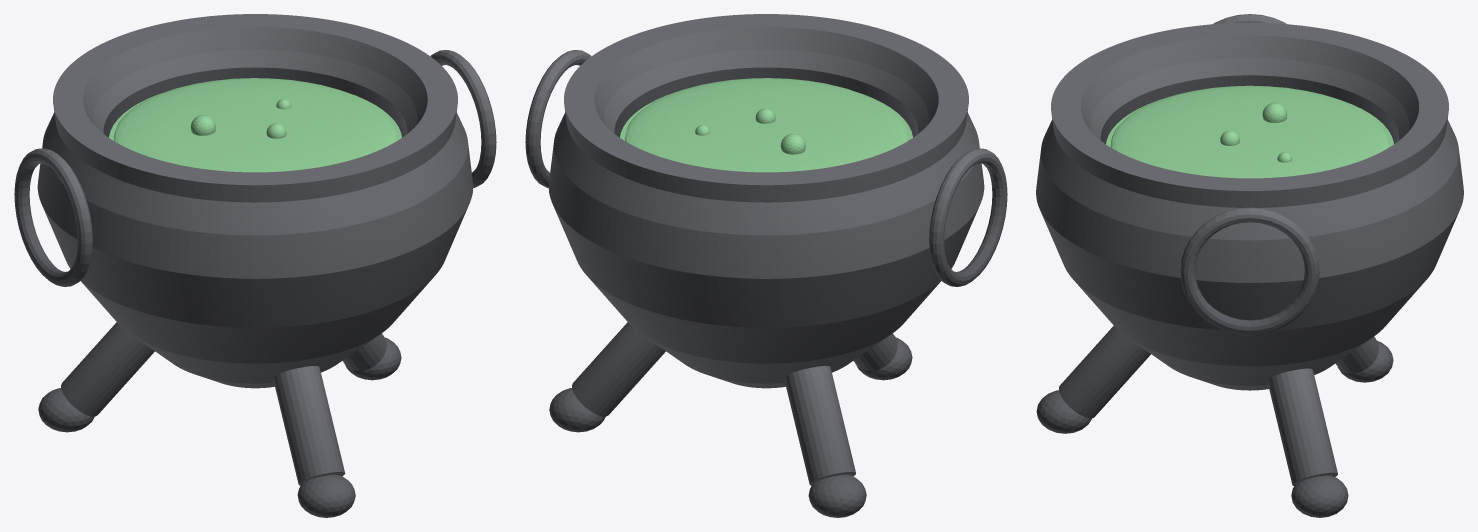
File: witch_cauldron.glb
3 views of the same model, side by side, from view 1: azimuth 30°, elevation 25°; view 2: azimuth 150°, elevation 25°; view 3: azimuth 270°, elevation 25° (orthographic).
Visible parts, largest first — view 1: world; view 2: world; view 3: world.
Part boxes in pixels (<box>): world: <box>14,14,496,517</box>; world: <box>525,14,1007,517</box>; world: <box>1036,14,1463,517</box>.
Bounding box in the file's own units: 1.9 × 1.48 × 1.72.
